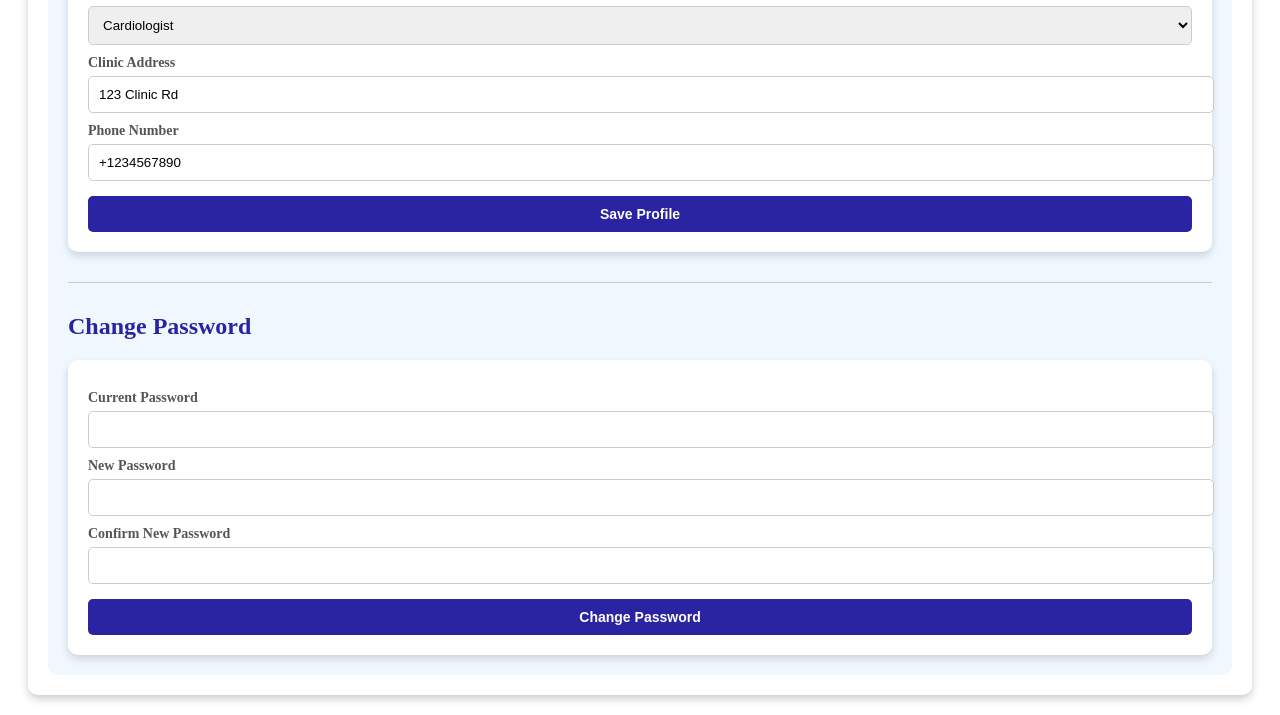
Test: Doctor Profile Page › Change Password › shows error when new password does not meet criteria
(page scrolled)
Step 1. Type "oldPass123" into the password field with test id "current-password" → (651, 430), box [88,411,1214,448]
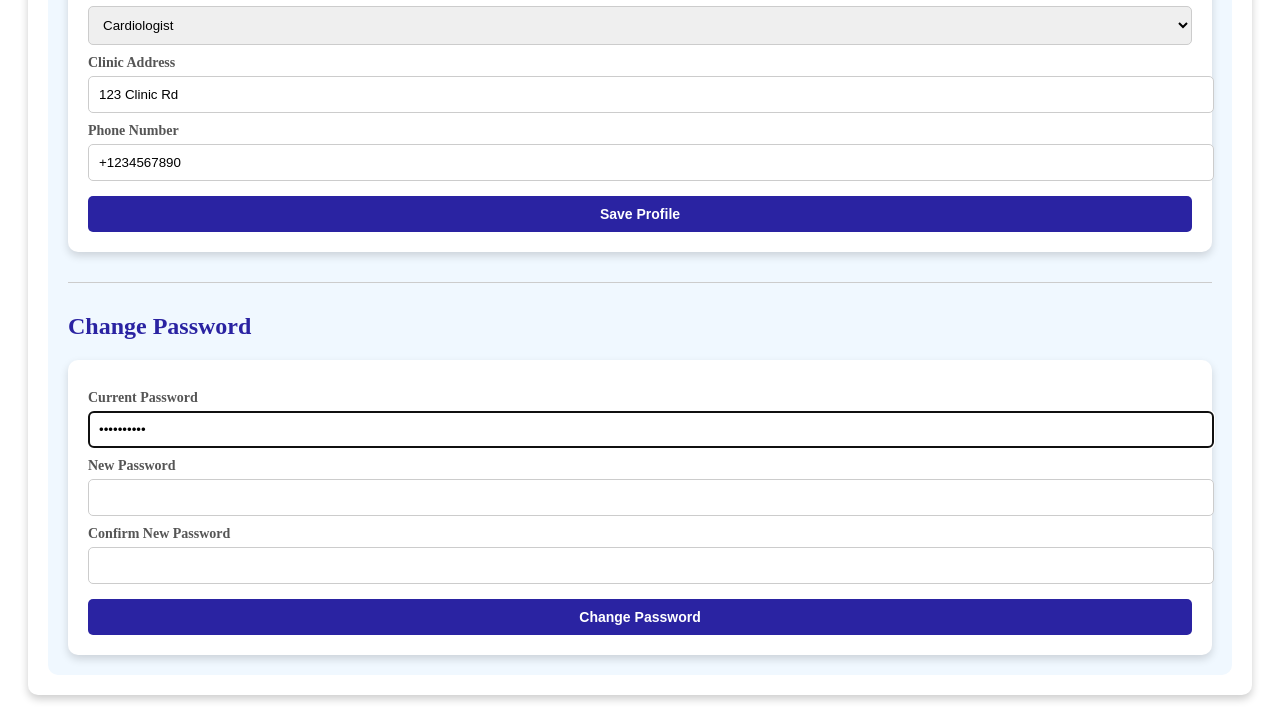
Step 2. Type "short" into the password field with test id "new-password-input" → (651, 498), box [88,479,1214,516]
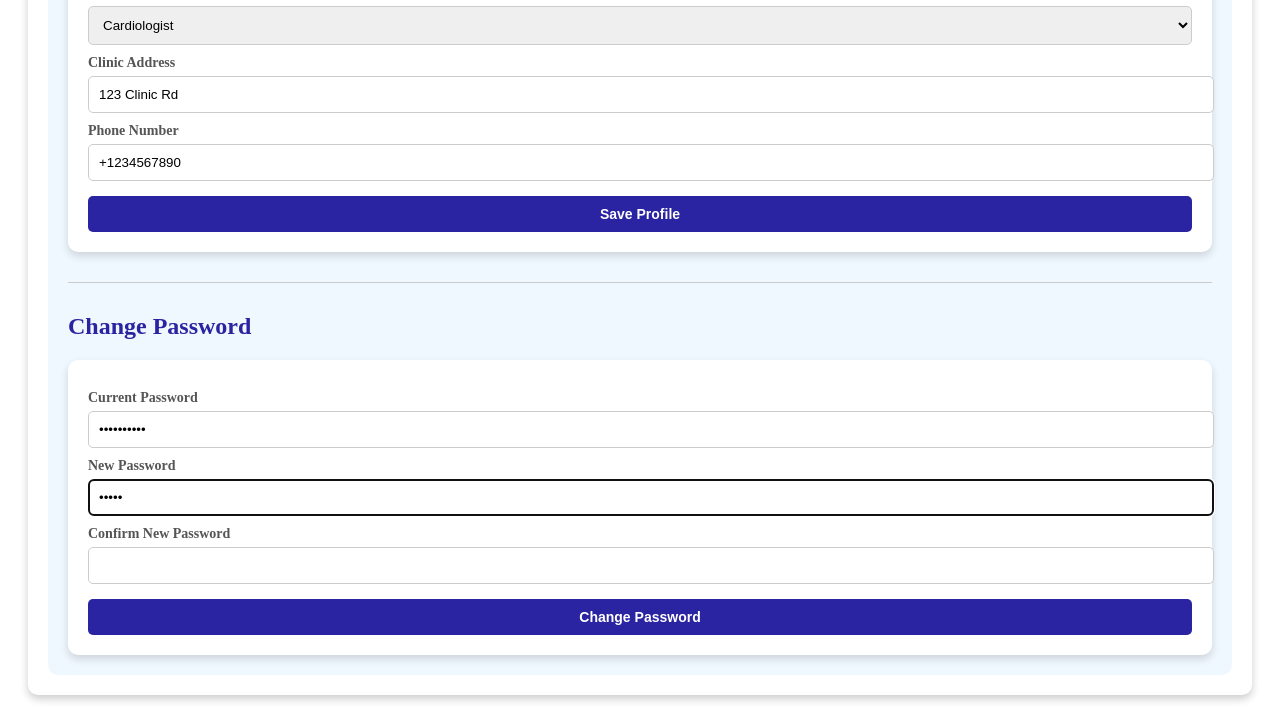
Step 3. Type "short" into the password field with test id "confirm-new-password-input" → (651, 566), box [88,547,1214,584]
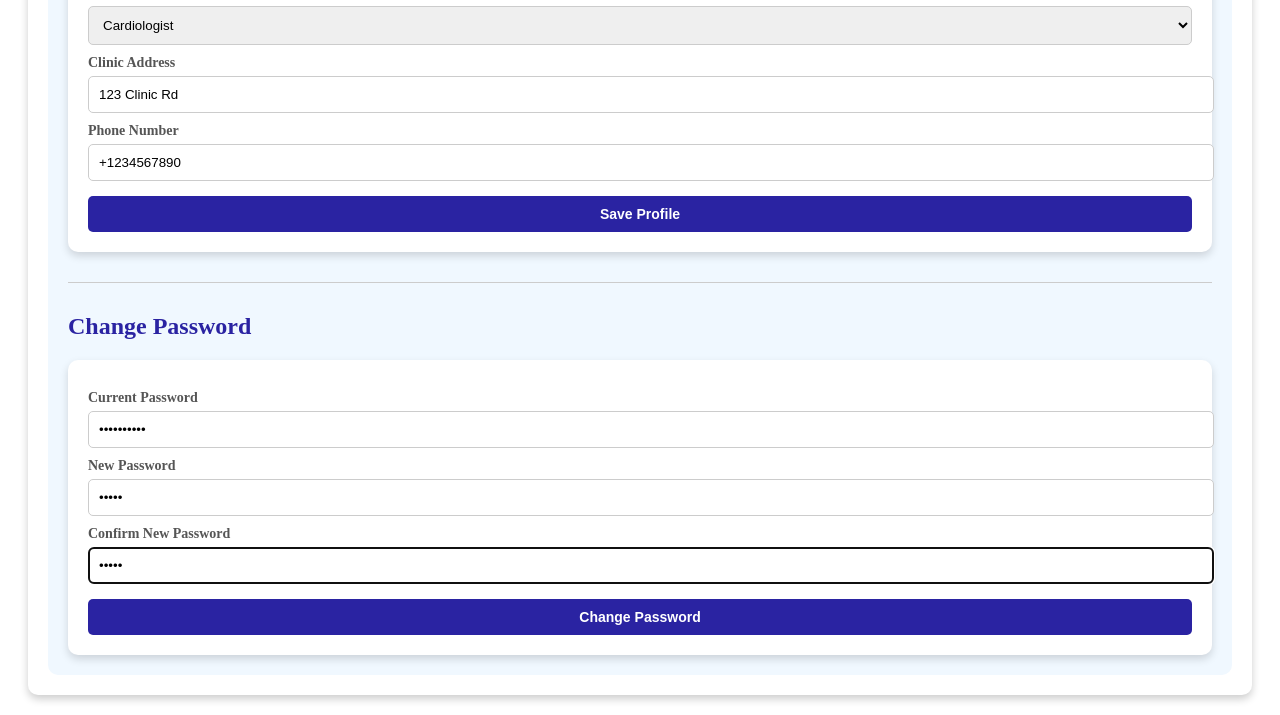
Step 4. Click the button with test id "chngpass" → (640, 617), box [88,599,1192,635]
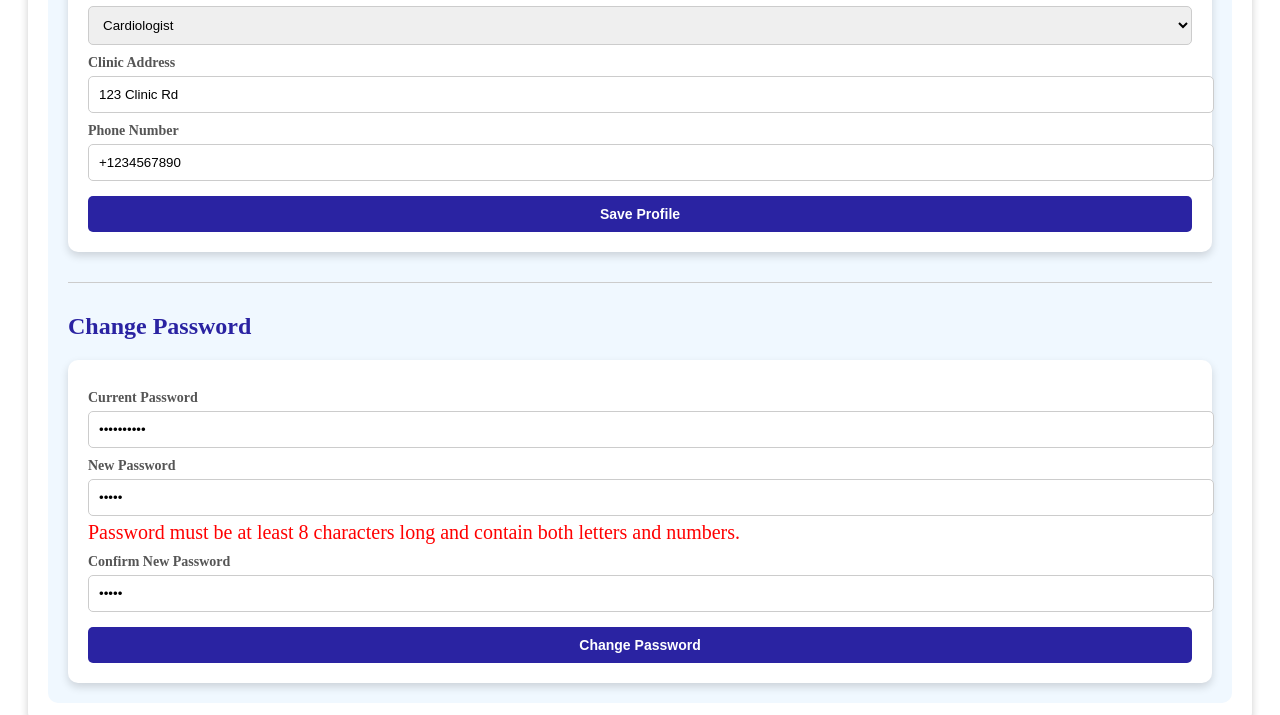
Expected: the text "Password must be at least 8 characters long and contain both letters and numbers." is shown, [88,521,740,543]
